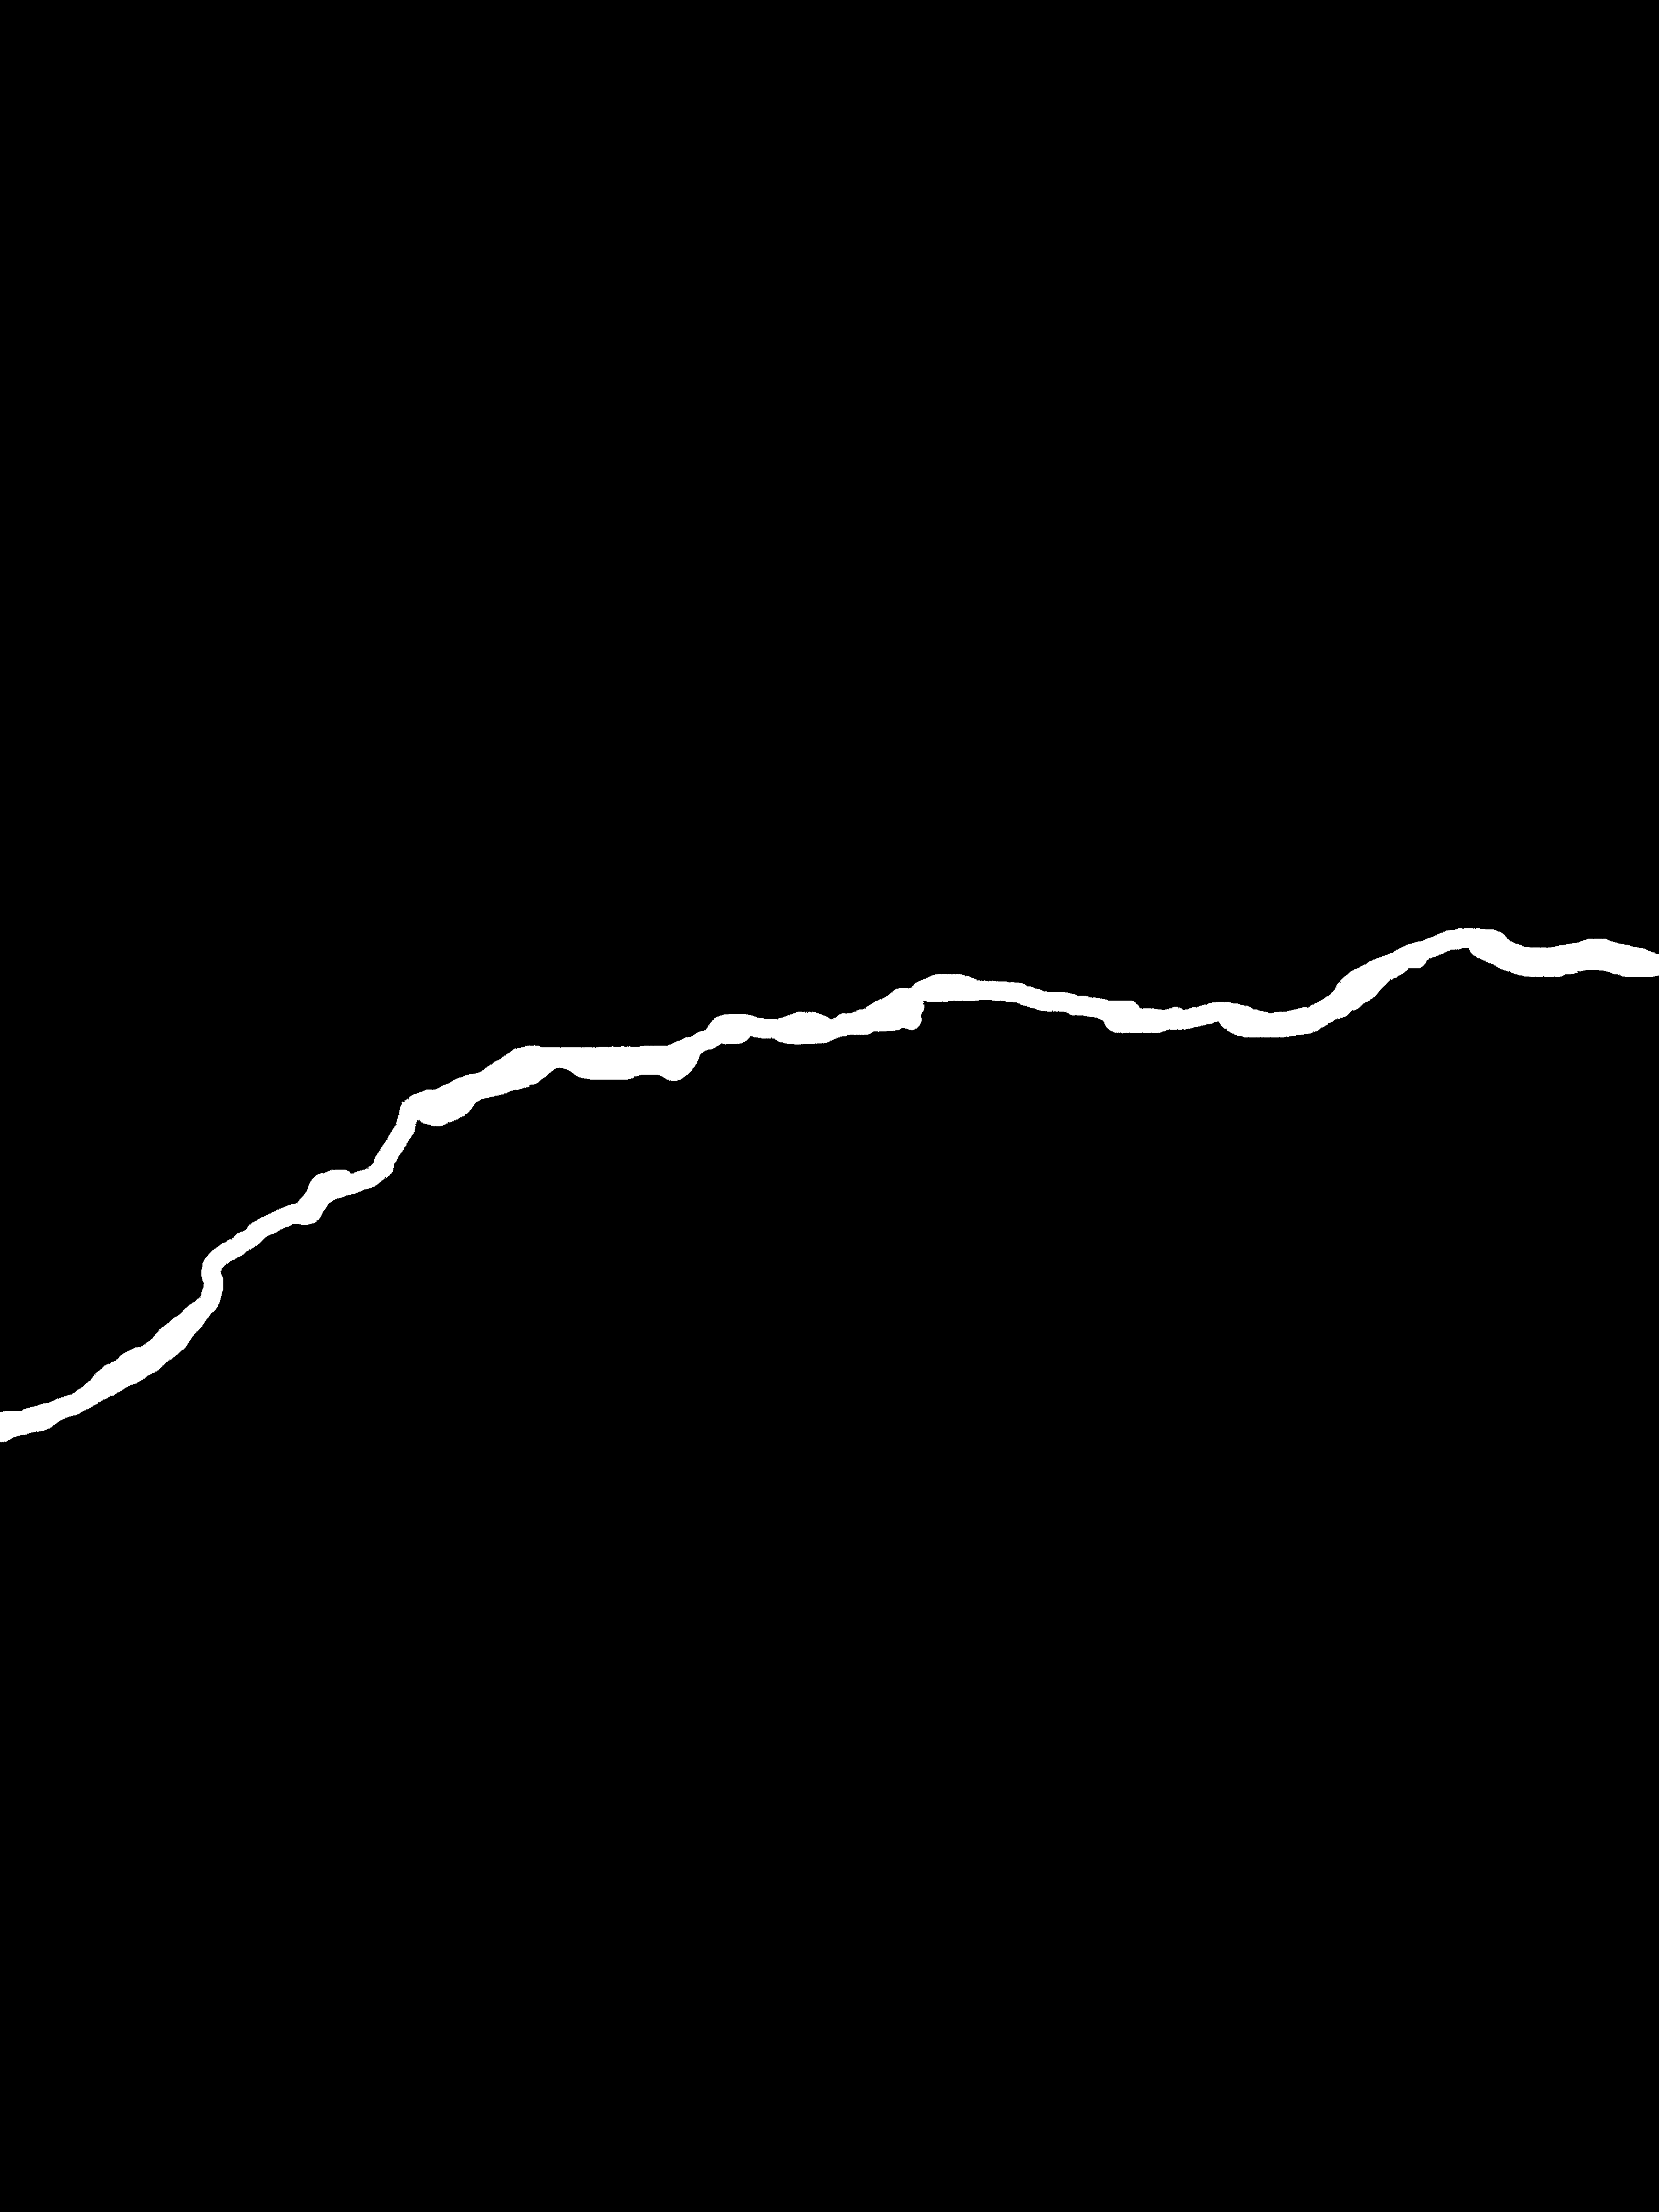Crack: (0, 911, 1659, 1465)
